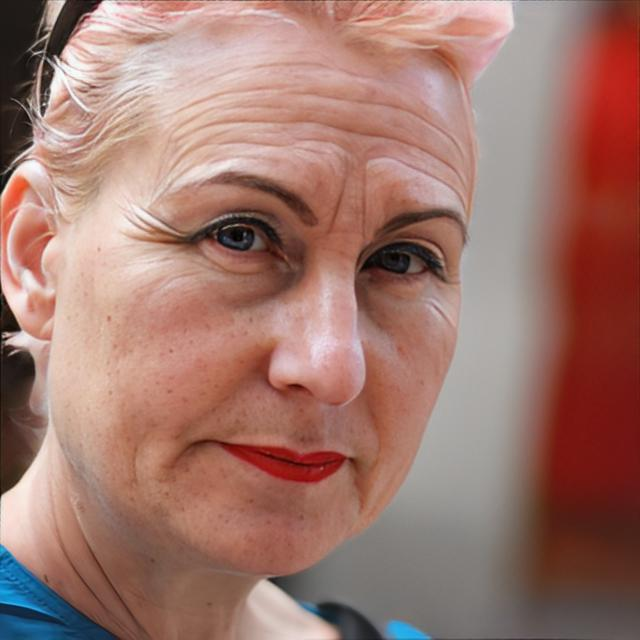content: (48, 24, 480, 578)
